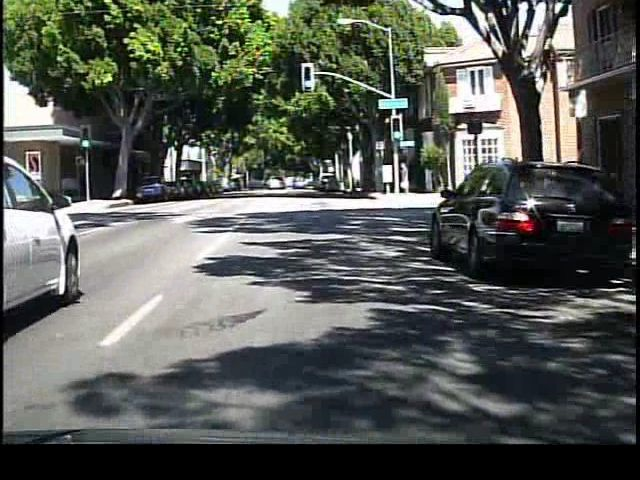person: (396, 157, 415, 198)
